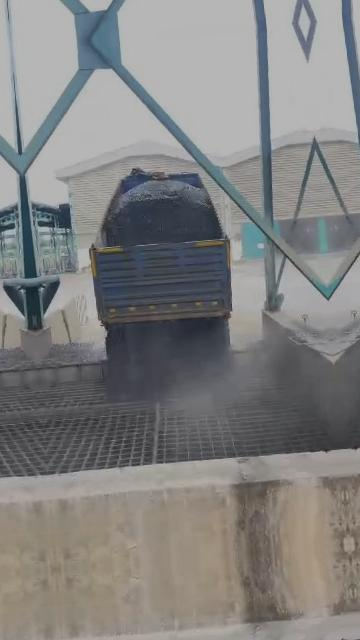gravel: (105, 318, 231, 401), (102, 179, 222, 245), (46, 343, 101, 361)
